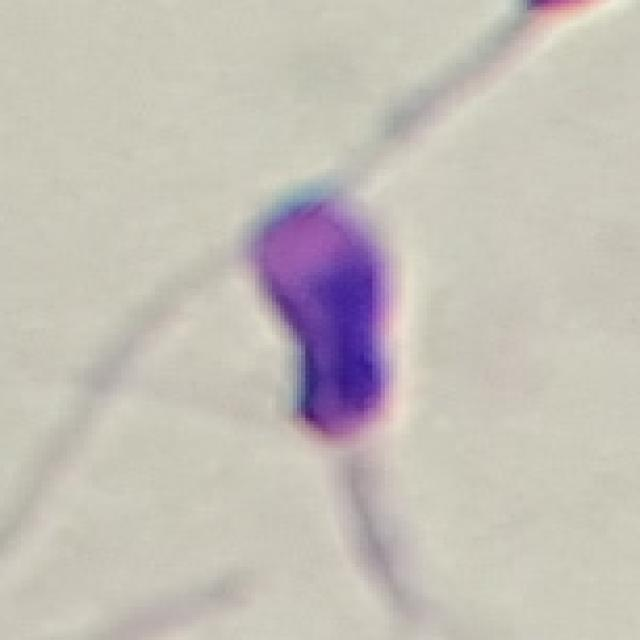abnormal sperm: (247, 192, 410, 584)
